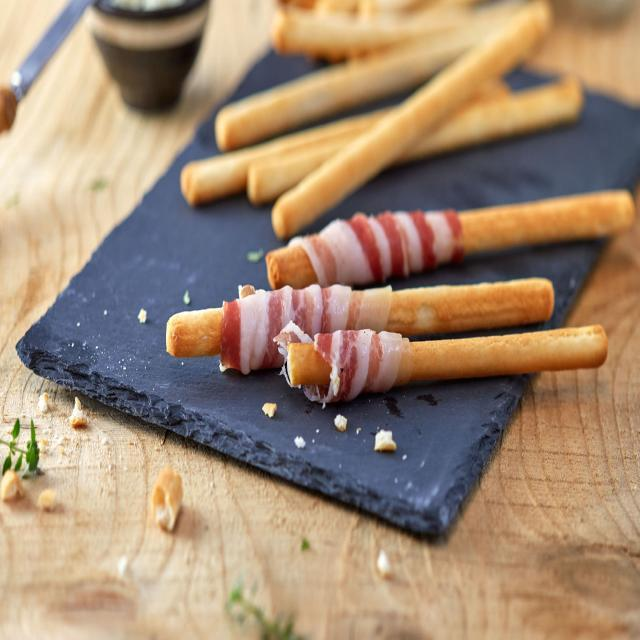Grissini: (160, 279, 618, 403), (249, 189, 638, 254)
